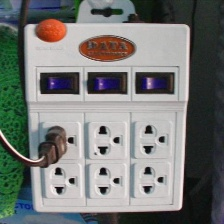three_eye_plug: (17, 14, 192, 214)
